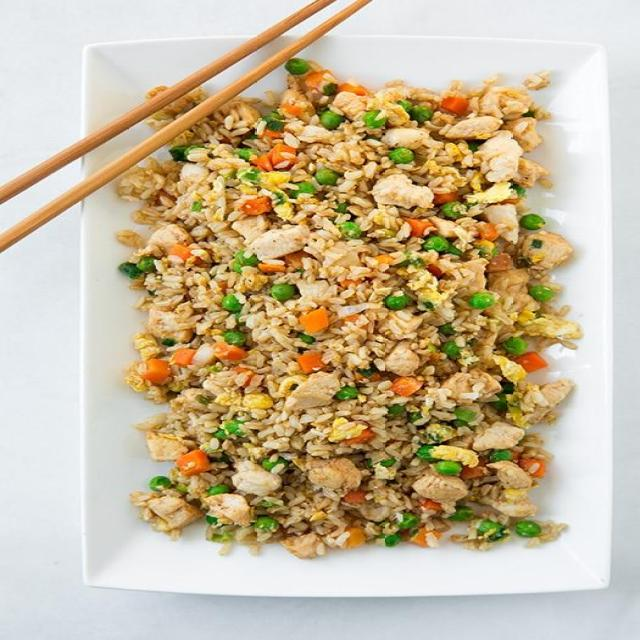Nasi Goreng: (113, 56, 583, 560)
